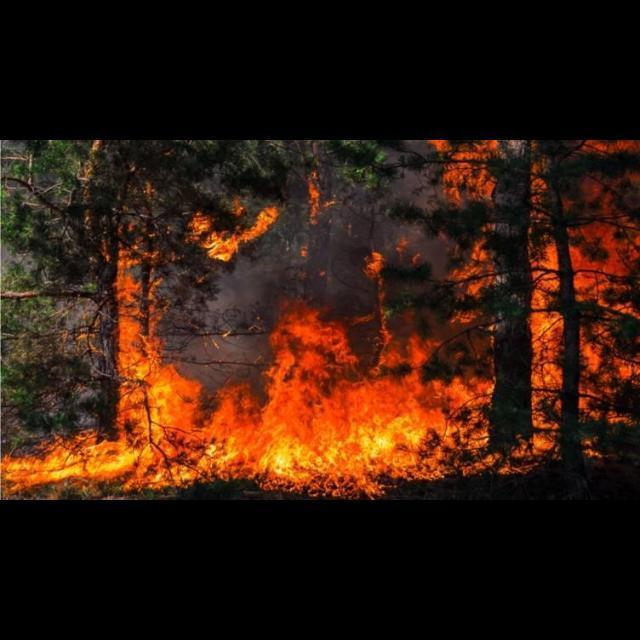Fire: (1, 140, 639, 500)
